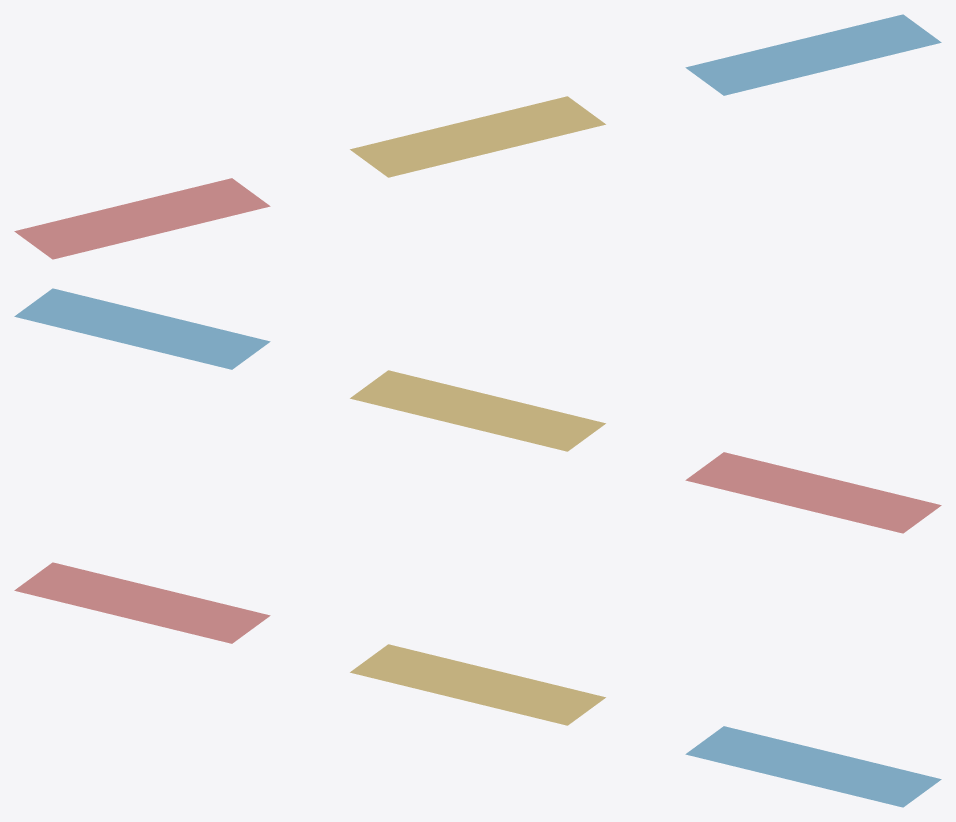
3 views of the same model, one above another, from view 1: azimuth 30°, elevation 25°; view 2: azimuth 150°, elevation 25°; view 3: azimuth 330°, elevation 25° (orthographic).
Visible parts, largest first — view 1: 413 A Step 0 Box, 413 A Step 2 Box, 413 A Step 1 Box; view 2: 413 A Step 0 Box, 413 A Step 2 Box, 413 A Step 1 Box; view 3: 413 A Step 0 Box, 413 A Step 2 Box, 413 A Step 1 Box.
Boxes of the visible parts, box(x1,y1,x2,y2) form: 413 A Step 0 Box: box(14, 178, 270, 259); 413 A Step 2 Box: box(685, 14, 941, 95); 413 A Step 1 Box: box(350, 96, 605, 177); 413 A Step 0 Box: box(685, 452, 941, 533); 413 A Step 2 Box: box(14, 288, 270, 369); 413 A Step 1 Box: box(350, 370, 605, 451); 413 A Step 0 Box: box(14, 562, 270, 643); 413 A Step 2 Box: box(685, 726, 941, 807); 413 A Step 1 Box: box(350, 644, 605, 725).
Size of what is drawn, in the model's own units: 10.6 by 0 by 0.8.
